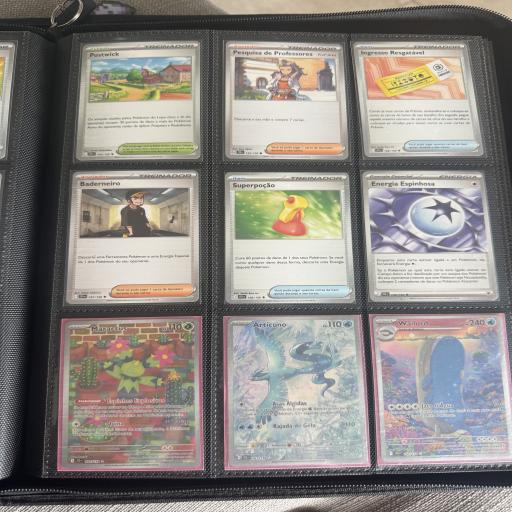card: (373, 308, 512, 466), (58, 318, 201, 470), (227, 314, 367, 467), (362, 164, 500, 309), (352, 29, 484, 168), (66, 170, 199, 304), (224, 172, 355, 304), (223, 40, 351, 160), (76, 41, 200, 160)
